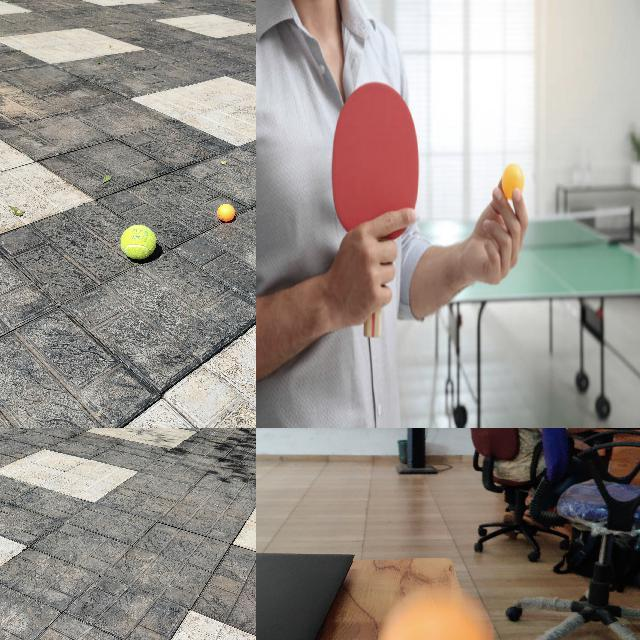ping-pong-ball: (380, 592, 493, 639), (502, 164, 525, 196), (217, 203, 233, 221)
